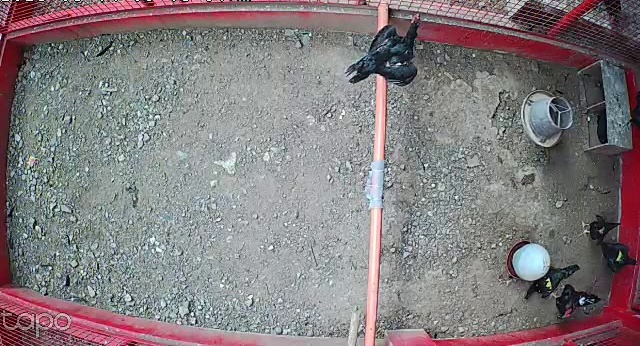Chicken: (345, 13, 423, 93), (520, 258, 584, 305), (602, 236, 640, 279), (575, 211, 622, 245)
Rooster: (547, 281, 603, 323)
Saddle_Color_Yellow: (543, 275, 553, 287)
Saddle_Color_YellowGreen: (616, 250, 626, 262)
